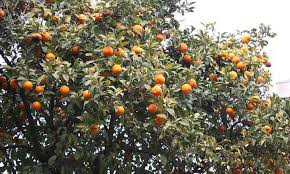orange: (151, 86, 163, 98), (154, 73, 167, 84)
